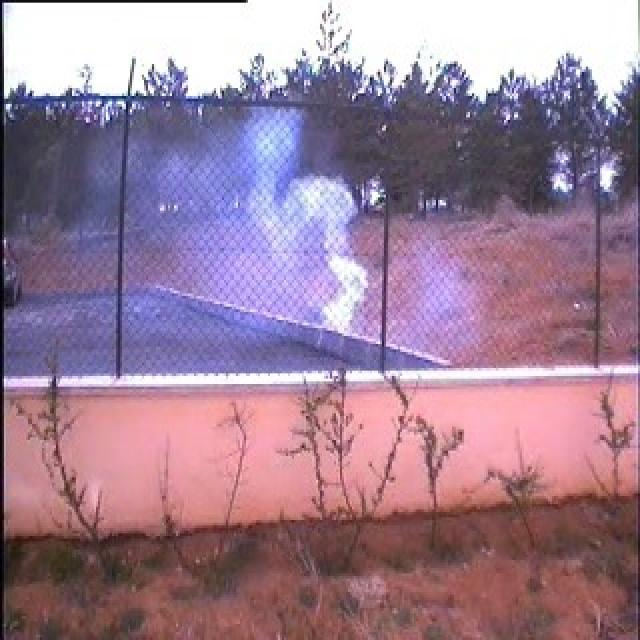Smoke: (162, 110, 370, 334)
